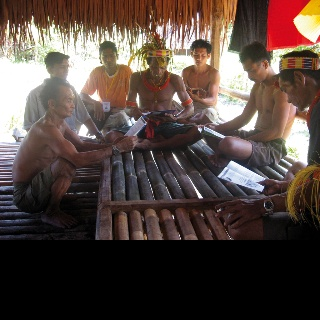without_mask: (280, 75, 307, 112), (55, 87, 75, 118), (243, 60, 267, 84), (51, 59, 70, 80), (149, 57, 167, 78), (100, 48, 117, 69), (192, 47, 208, 67)
